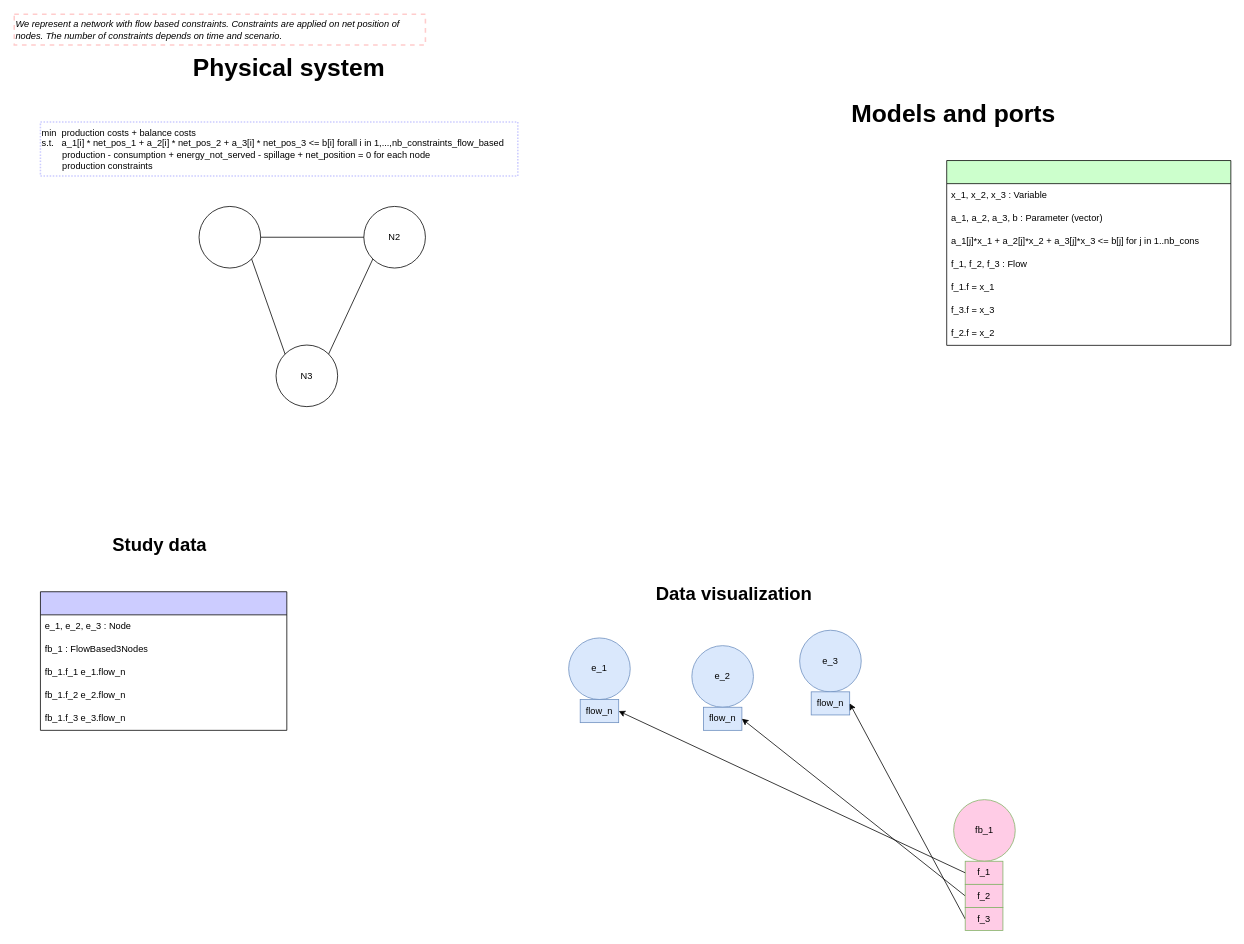
Some shapes in this 1244 by 944 pixel diagram are drawn without their labels. Here are the shapes that lost their labels. From the top down, the box of each, then its label:
(198, 206, 261, 268): N1
(946, 160, 1231, 345): FlowBased3Nodes : Model
(40, 591, 287, 730): File "network.txt"
